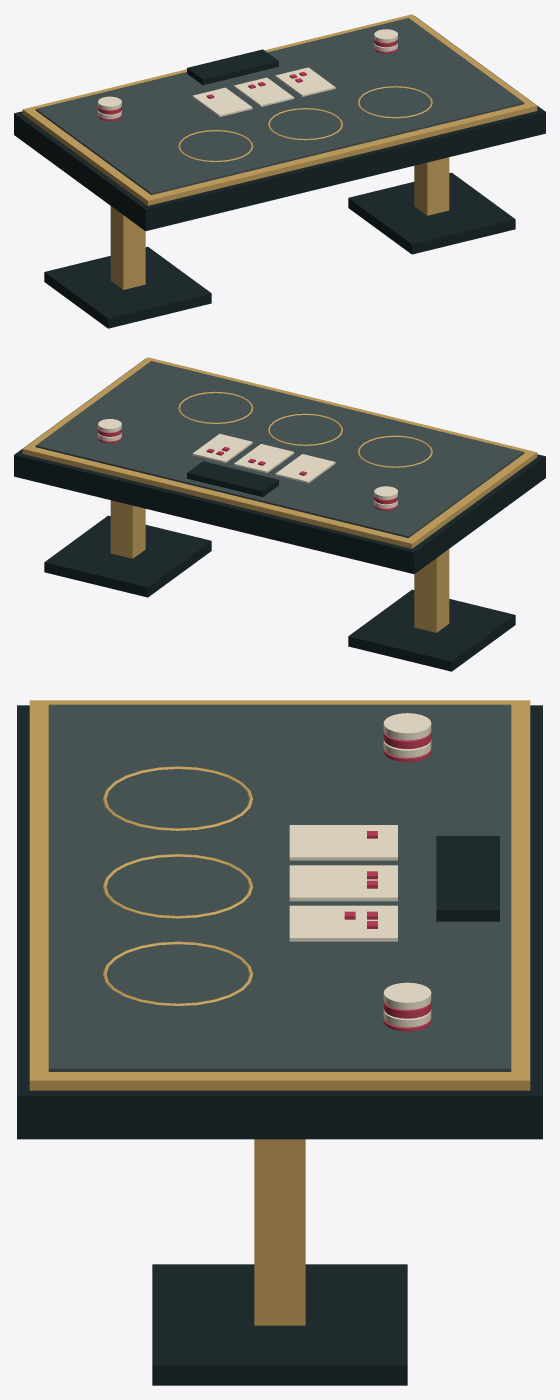
File: threecard.glb
3 renders of one model, top to bottom at view 1: azimuth 30°, elevation 25°; view 2: azimuth 150°, elevation 25°; view 3: azimuth 270°, elevation 25°, orthographic. The views are drawn at different scales.
Size of the model in its own units: 2.95 by 1.14 by 1.65.
